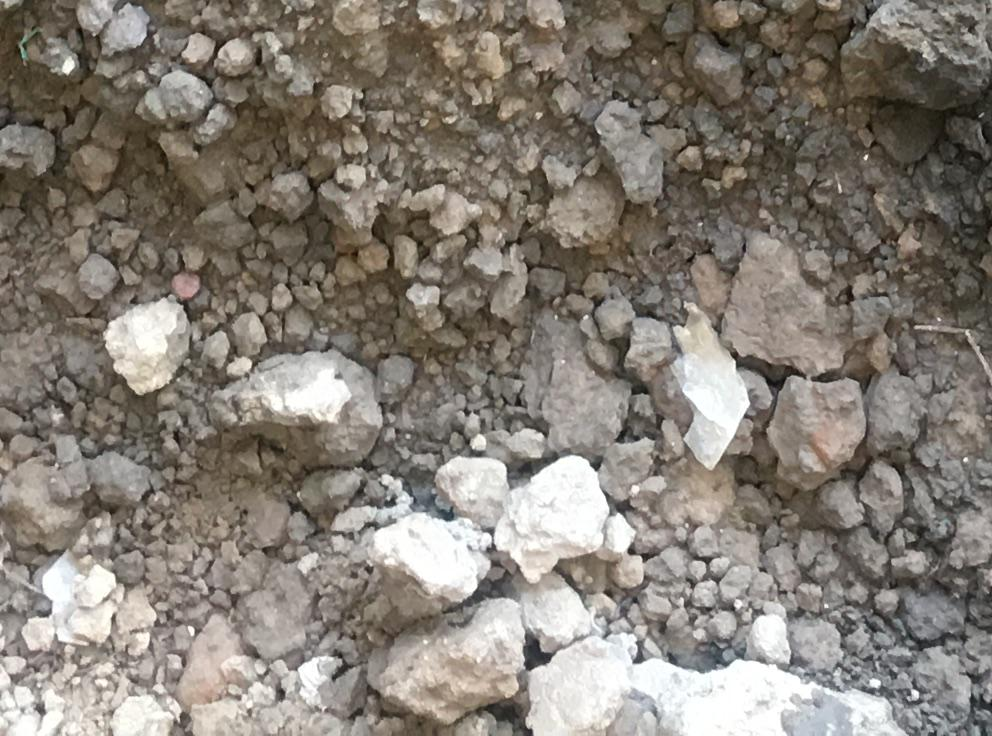block: (719, 223, 871, 377), (206, 352, 386, 470), (516, 307, 640, 463), (359, 603, 521, 722), (835, 2, 990, 122), (489, 452, 612, 579), (359, 513, 490, 617), (515, 632, 637, 735), (766, 374, 857, 485), (97, 302, 189, 393)
